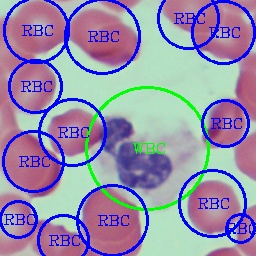RBC: (0, 124, 62, 197), (76, 183, 140, 248), (182, 176, 242, 236), (8, 0, 72, 56), (188, 10, 252, 62), (4, 57, 60, 116), (44, 104, 101, 159), (82, 18, 142, 70), (199, 94, 248, 152), (66, 4, 126, 51), (158, 0, 225, 37), (0, 189, 37, 255), (0, 15, 38, 78), (27, 216, 85, 255)
WBC: (92, 109, 197, 210)
